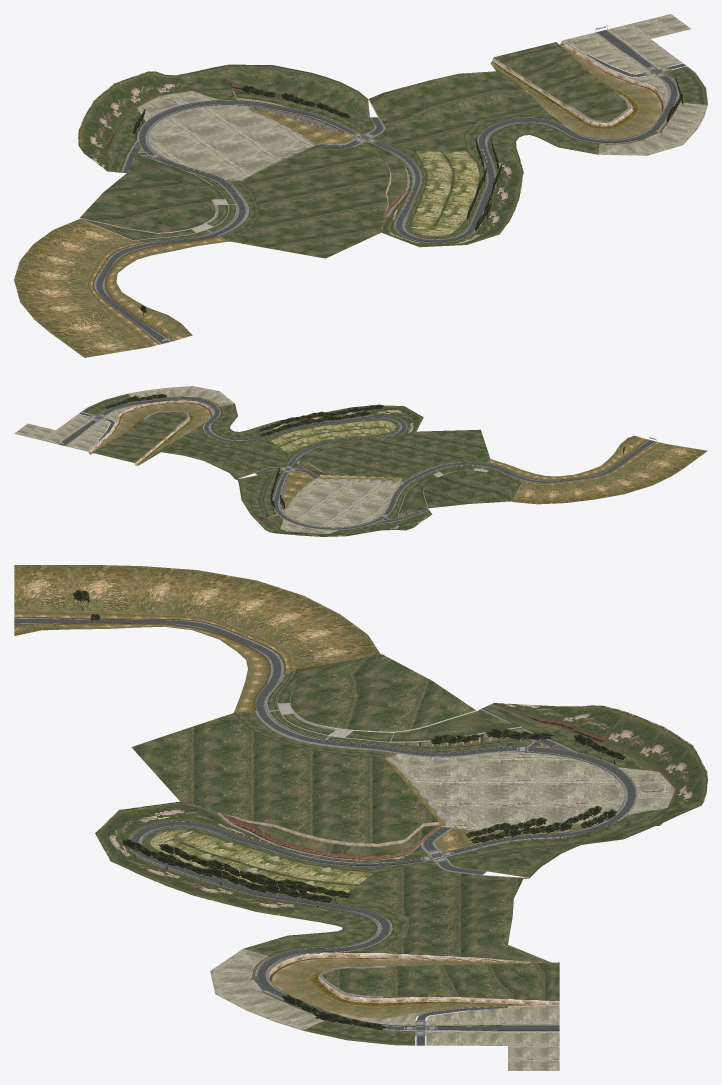
Rendered from stage-impe-env.glb.
The picture shows the model from 3 angles, top to bottom: view 1: azimuth 30°, elevation 25°; view 2: azimuth 150°, elevation 25°; view 3: azimuth 270°, elevation 25°; orthographic projection. The views are drawn at different scales.
Parts seen in each view (by area): view 1: env part 0 chunk 2,-2, env part 0 chunk 2,-4, env part 0 chunk 2,-5, env part 0 chunk -1,-2, env part 0 chunk 1,-3, env part 0 chunk 4,-4, env part 0 chunk 6,-3, env part 0 chunk 3,-2, env part 0 chunk 5,-4, env part 0 chunk 4,-2, env part 0 chunk 0,-1, env part 0 chunk 3,-4 (+11 smaller); view 2: env part 0 chunk 2,-4, env part 0 chunk 2,-2, env part 0 chunk 1,-3, env part 0 chunk -1,-2, env part 0 chunk 6,-3, env part 0 chunk 4,-4, env part 0 chunk 3,-2, env part 0 chunk 5,-4, env part 0 chunk 2,-5, env part 0 chunk 4,-2, env part 0 chunk 0,-1, env part 0 chunk 3,-4 (+15 smaller); view 3: env part 0 chunk 2,-2, env part 0 chunk 2,-4, env part 0 chunk -1,-2, env part 0 chunk 1,-3, env part 0 chunk 2,-5, env part 0 chunk 4,-4, env part 0 chunk 6,-3, env part 0 chunk 3,-2, env part 0 chunk 5,-4, env part 0 chunk 4,-2, env part 0 chunk 3,-3, env part 0 chunk 0,-1 (+15 smaller).
Boxes of the visible parts, x1=… form: env part 0 chunk 2,-2: x1=230, y1=145, x2=389, y2=258; env part 0 chunk 2,-4: x1=105, y1=88, x2=367, y2=242; env part 0 chunk 2,-5: x1=78, y1=64, x2=374, y2=170; env part 0 chunk -1,-2: x1=14, y1=219, x2=147, y2=357; env part 0 chunk 1,-3: x1=79, y1=153, x2=259, y2=242; env part 0 chunk 4,-4: x1=139, y1=47, x2=661, y2=151; env part 0 chunk 6,-3: x1=490, y1=41, x2=707, y2=138; env part 0 chunk 3,-2: x1=94, y1=80, x2=670, y2=343; env part 0 chunk 5,-4: x1=492, y1=42, x2=633, y2=126; env part 0 chunk 4,-2: x1=372, y1=77, x2=667, y2=239; env part 0 chunk 0,-1: x1=96, y1=235, x2=229, y2=343; env part 0 chunk 3,-4: x1=247, y1=102, x2=389, y2=147; env part 0 chunk 2,-4: x1=260, y1=462, x2=521, y2=533; env part 0 chunk 2,-2: x1=310, y1=429, x2=490, y2=477; env part 0 chunk 1,-3: x1=390, y1=457, x2=521, y2=513; env part 0 chunk -1,-2: x1=512, y1=443, x2=707, y2=504; env part 0 chunk 6,-3: x1=79, y1=390, x2=212, y2=465; env part 0 chunk 4,-4: x1=80, y1=416, x2=288, y2=479; env part 0 chunk 3,-2: x1=111, y1=399, x2=655, y2=483; env part 0 chunk 5,-4: x1=91, y1=412, x2=190, y2=465; env part 0 chunk 2,-5: x1=236, y1=470, x2=431, y2=536; env part 0 chunk 4,-2: x1=108, y1=400, x2=399, y2=467; env part 0 chunk 0,-1: x1=486, y1=435, x2=654, y2=480; env part 0 chunk 3,-4: x1=255, y1=461, x2=318, y2=510; env part 0 chunk 2,-2: x1=131, y1=713, x2=437, y2=843; env part 0 chunk 2,-4: x1=267, y1=670, x2=666, y2=860; env part 0 chunk -1,-2: x1=14, y1=565, x2=380, y2=669; env part 0 chunk 1,-3: x1=234, y1=654, x2=521, y2=757; env part 0 chunk 2,-5: x1=449, y1=703, x2=707, y2=877; env part 0 chunk 4,-4: x1=341, y1=749, x2=634, y2=1029; env part 0 chunk 6,-3: x1=269, y1=952, x2=541, y2=1045; env part 0 chunk 3,-2: x1=15, y1=617, x2=401, y2=1026; env part 0 chunk 5,-4: x1=318, y1=962, x2=559, y2=1005; env part 0 chunk 4,-2: x1=111, y1=826, x2=435, y2=1026; env part 0 chunk 3,-3: x1=217, y1=812, x2=463, y2=866; env part 0 chunk 0,-1: x1=14, y1=617, x2=282, y2=712.
Size of the model in its own units: 2505 by 90 by 1495.
49 materials, 48 textured.
